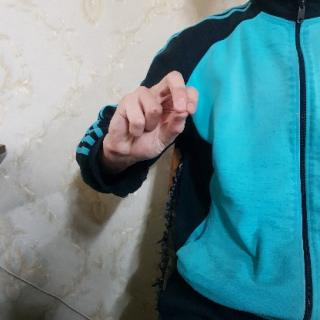QAAF: (103, 69, 203, 162)
